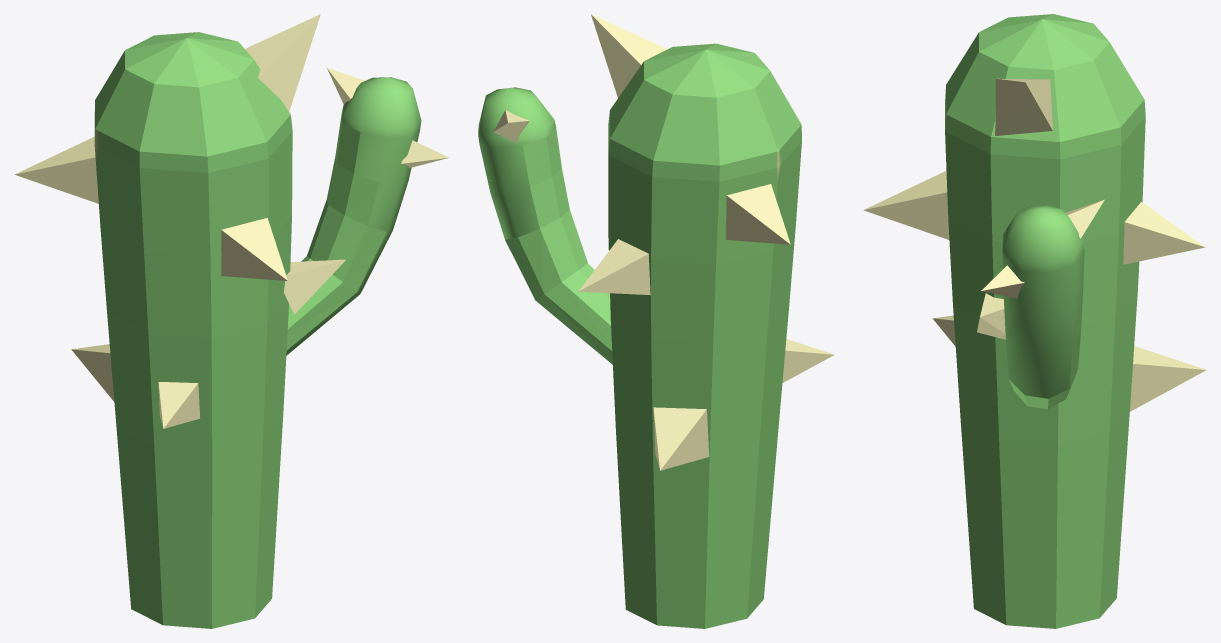
Rendered from Large cactus.fbx.
The picture shows the model from 3 angles, left to right: view 1: azimuth 30°, elevation 25°; view 2: azimuth 150°, elevation 25°; view 3: azimuth 270°, elevation 25°; orthographic projection. The views are drawn at different scales.
Visible parts, largest first — view 1: Sphere001; view 2: Sphere001; view 3: Sphere001.
Part boxes in pixels (x1,y1,x2,y2): Sphere001: [14, 14, 449, 628]; Sphere001: [478, 14, 834, 628]; Sphere001: [863, 14, 1206, 628].
Size of the model in its own units: 15.38 by 22.9 by 12.47.
